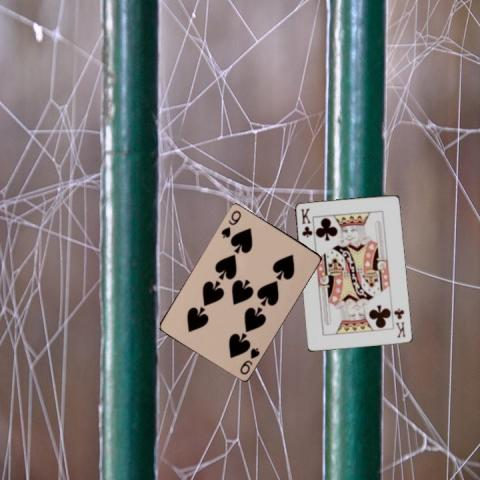9s: (218, 207, 243, 239), (237, 344, 261, 376)
Kc: (392, 305, 407, 339), (299, 206, 313, 240)
